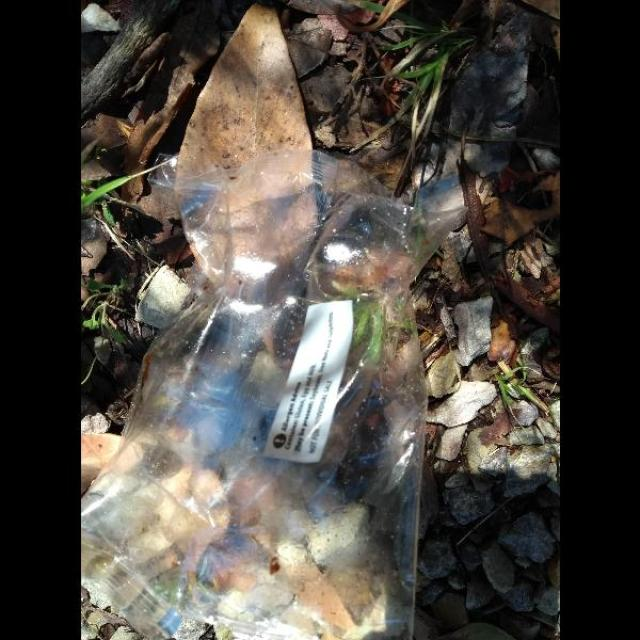plastic_waste: (71, 124, 453, 640)
